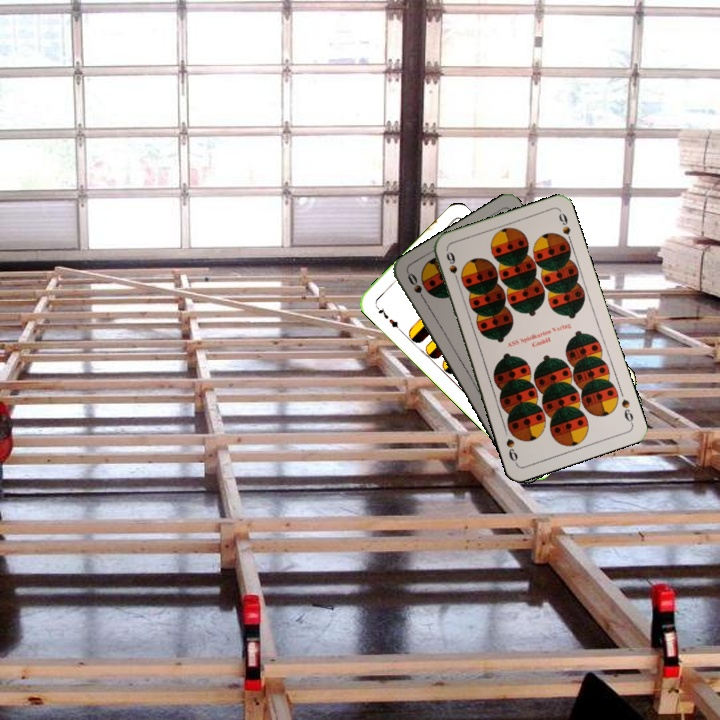E7: (372, 301, 404, 333)
S9: (442, 248, 462, 287), (617, 395, 636, 427)
SO: (403, 269, 430, 306)
